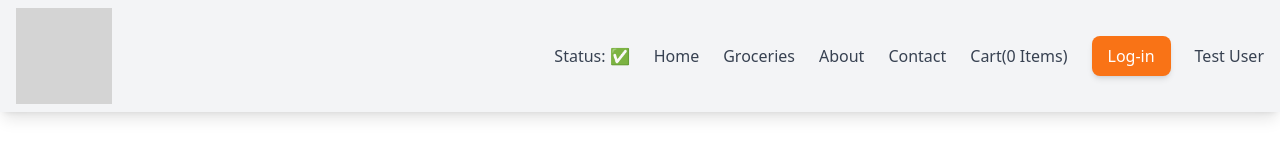
Header Component › changes button to logout when clicked
Click the button "Log-in" at x=1131, y=56, box [1092,36,1171,76]
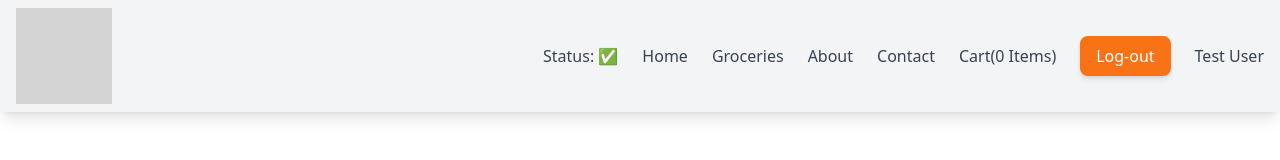
Expected: the button "Log-out" is shown, [1080,36,1171,76]
